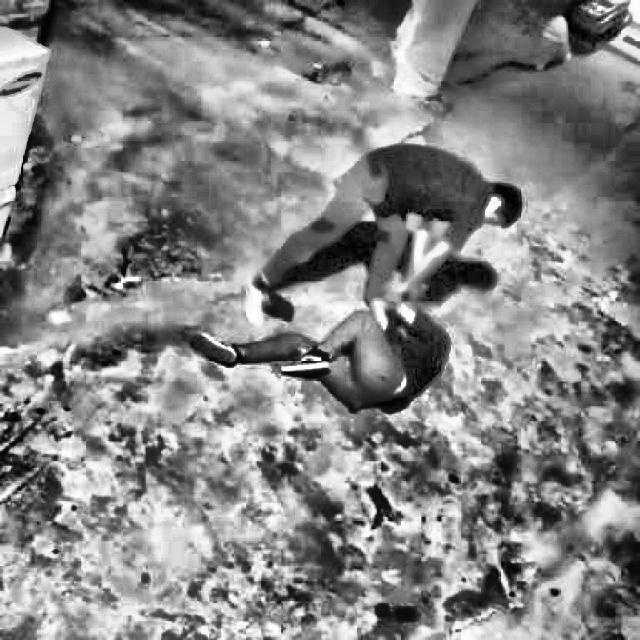robbery: (169, 125, 544, 435)
